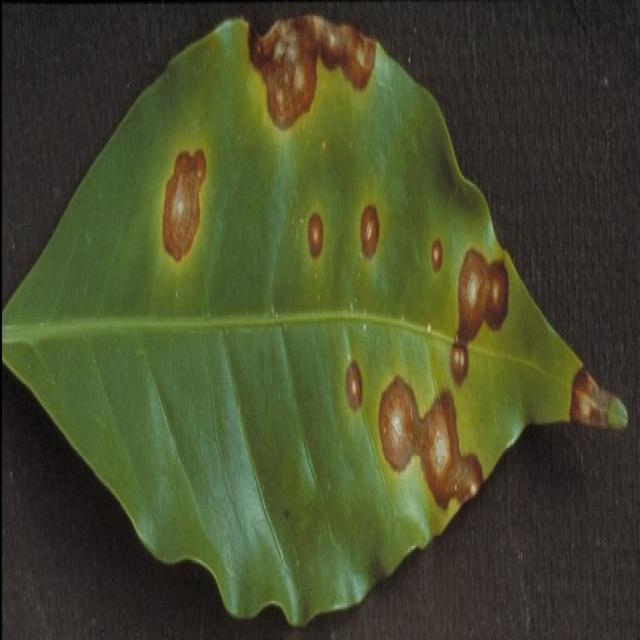Enfermedad-Mancha-de-hierro: (8, 20, 626, 630)
